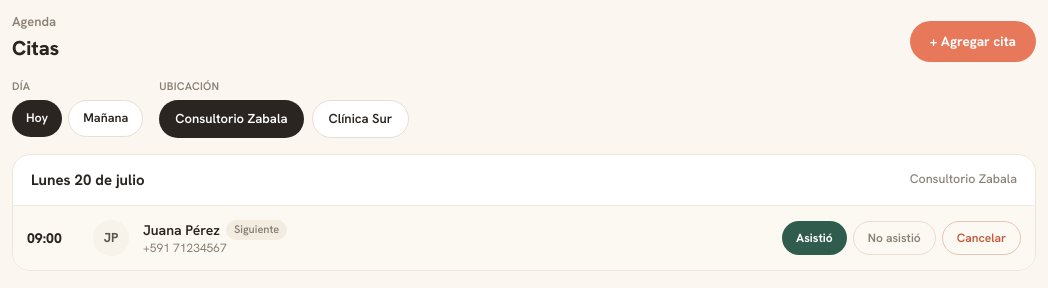
AppointmentsEditor › filters by day
The width and height of the screenshot is (1048, 288).
What coordinates should you click on to do the following:
click the button "Mañana"
I would click on:
 (106, 118)
Its box is [68, 100, 143, 137].
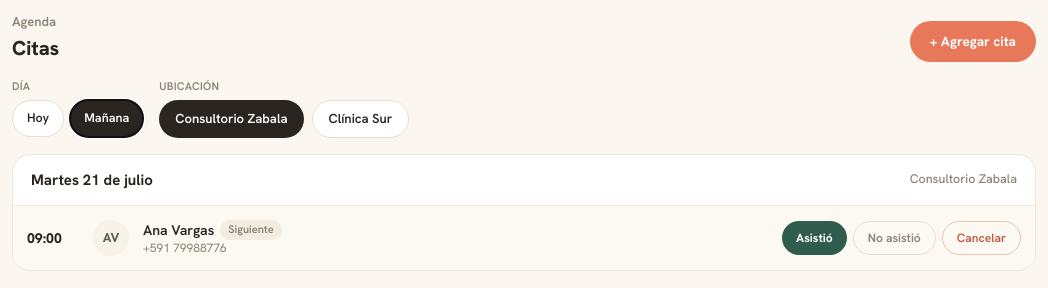
Result: the text "Ana Vargas" is shown at [143, 221, 214, 239]
Result: the text "Juana Pérez" is gone
